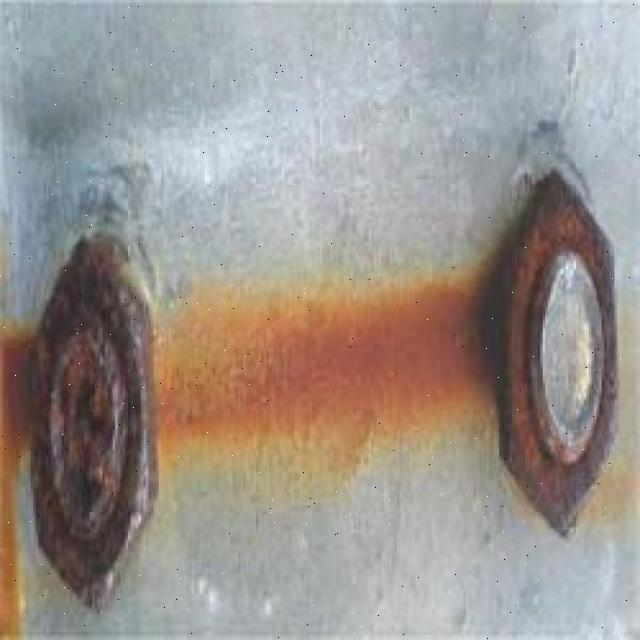corrosion: (488, 163, 627, 563), (23, 231, 159, 612), (162, 290, 463, 424)
